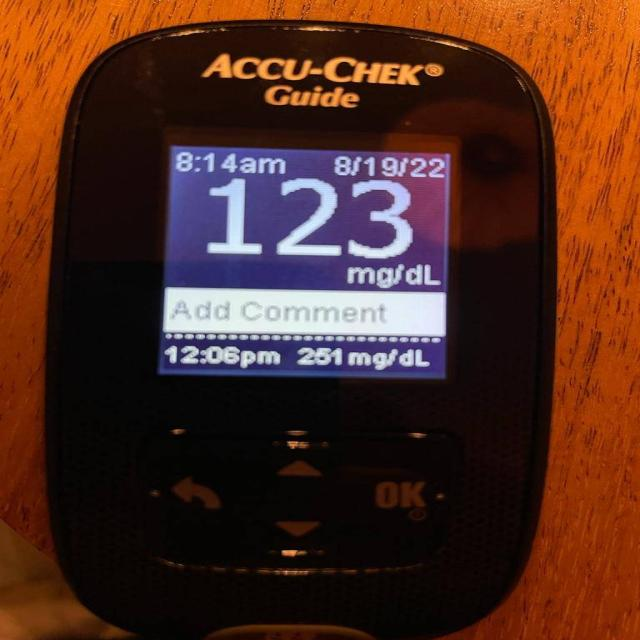gluco: (38, 19, 558, 639)
